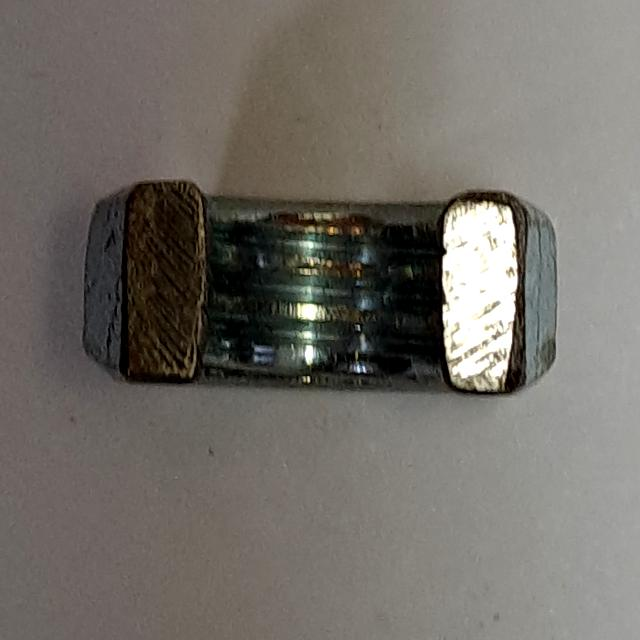Side-Fracture: (64, 162, 577, 413)
